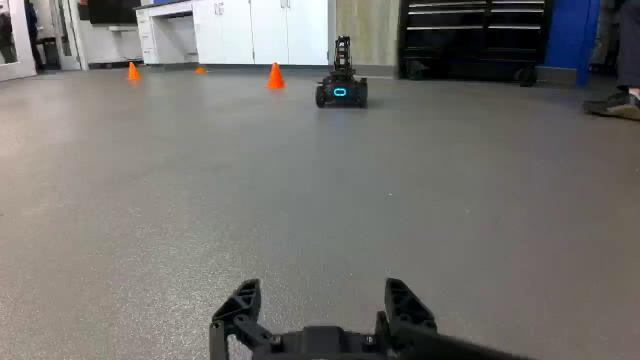robot: (315, 36, 367, 109)
